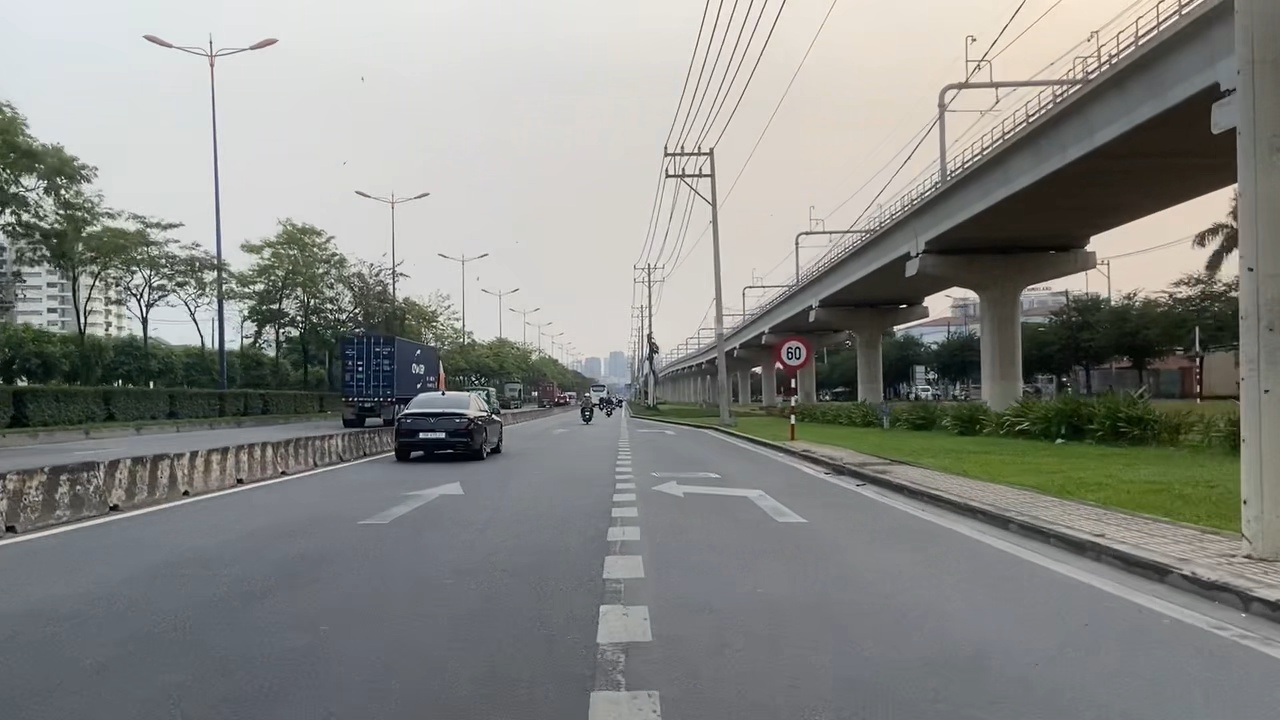gioi_han_60km: (776, 335, 812, 370)
